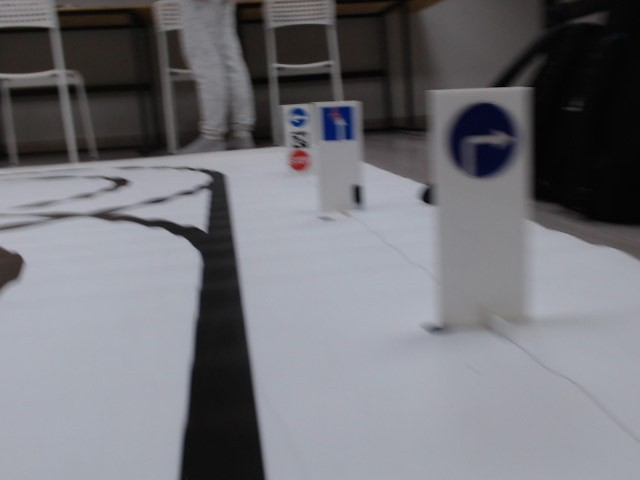Right: (446, 104, 523, 183)
Stop: (288, 149, 309, 171)
priority_movement: (319, 105, 353, 143)
